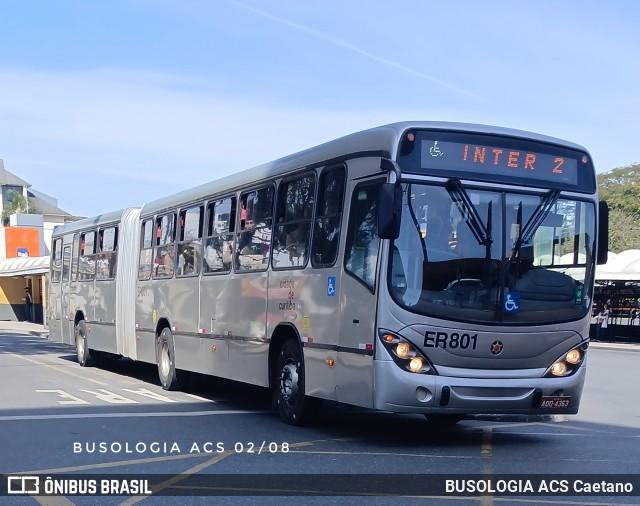INTER2: (458, 139, 569, 179)
